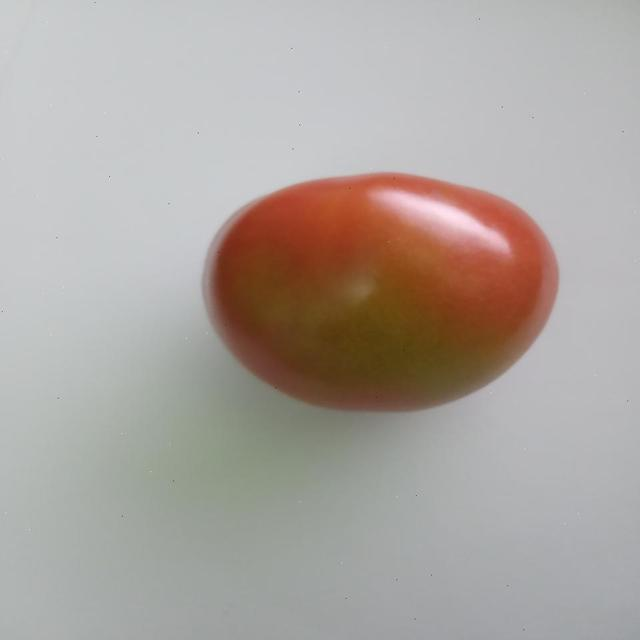Healthy Fruit: (130, 108, 376, 282)
